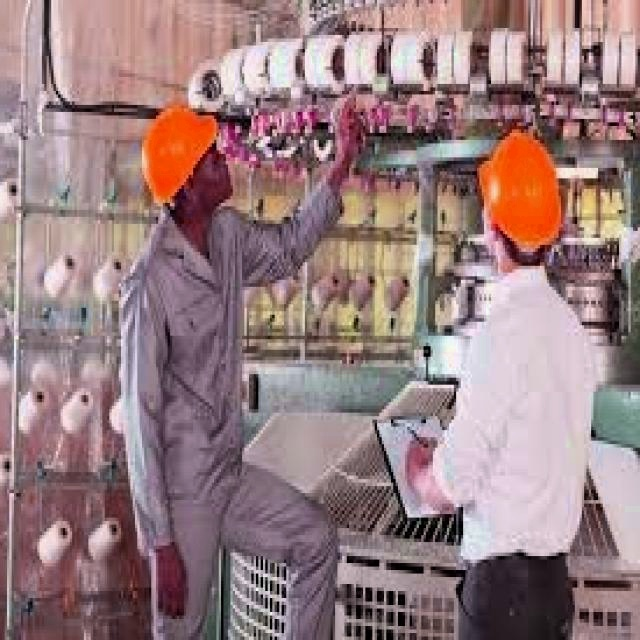Con_Casco: (478, 130, 561, 261)
